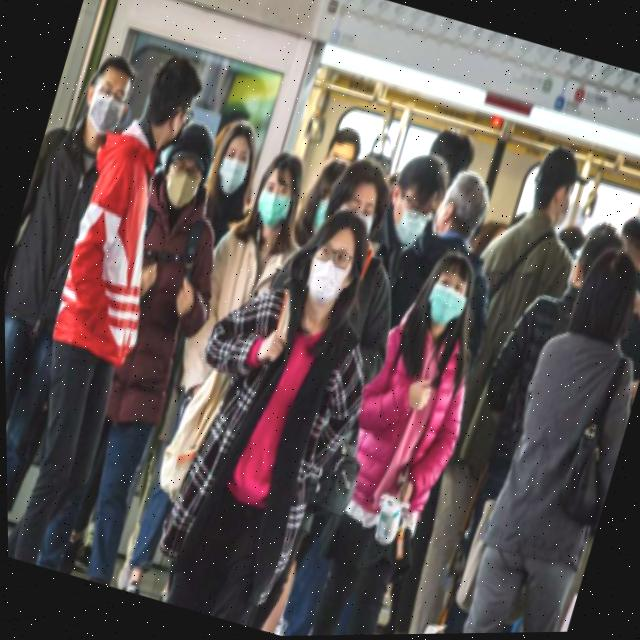Mask: (299, 254, 356, 309), (418, 281, 470, 336), (380, 200, 430, 250), (81, 90, 129, 139), (156, 168, 203, 214), (249, 189, 295, 231), (213, 153, 251, 197)
